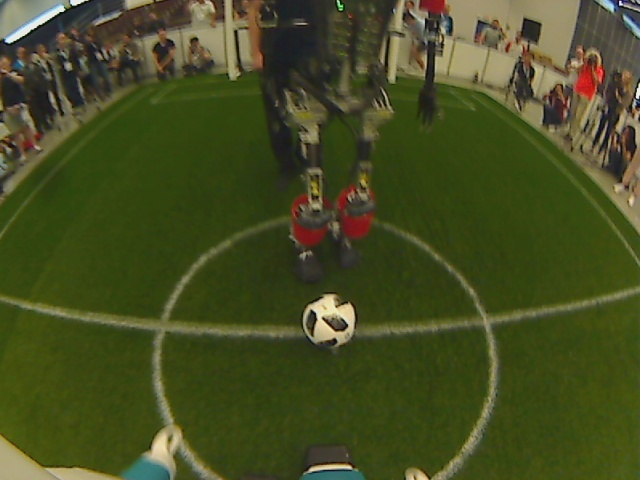ball: (300, 291, 355, 355)
goalpost: (215, 66, 253, 95), (386, 71, 402, 91)
robot: (277, 213, 382, 287)
